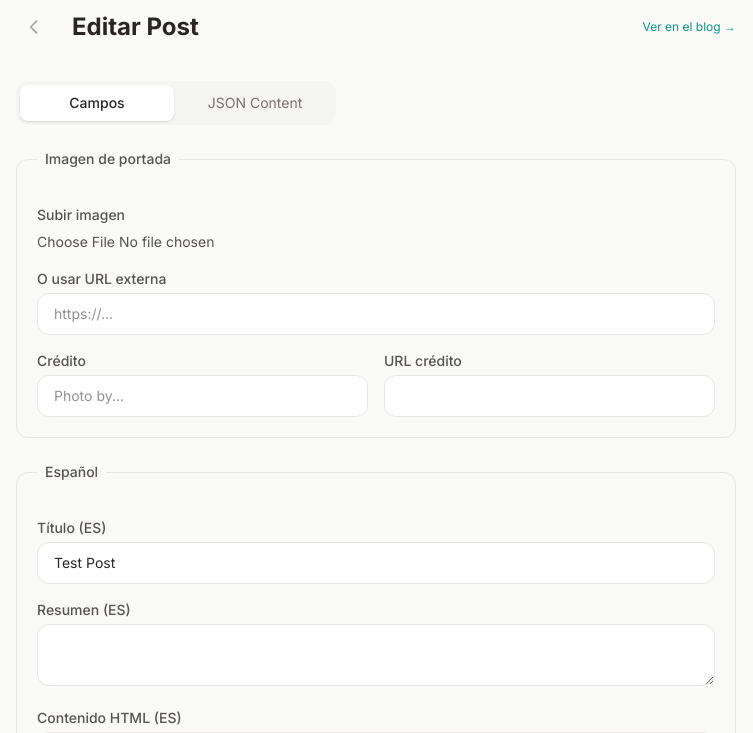
Test: AdminBlogEditPage › switches back to Campos tab from JSON tab
The width and height of the screenshot is (753, 733).
Click the button "JSON Content" at point(255, 103), box [178,85,332,121]
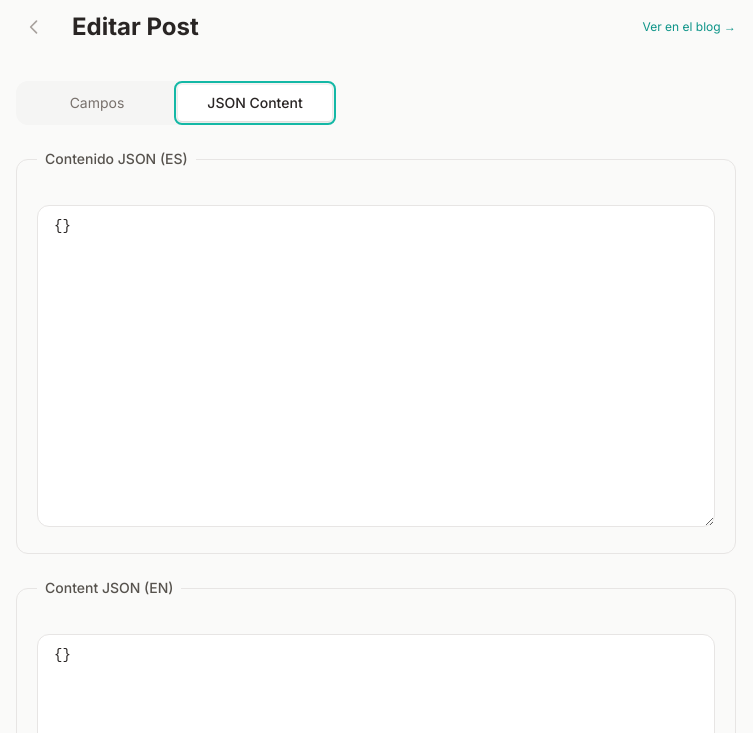
Click the button "Campos" at point(97, 103), box [20,85,174,121]
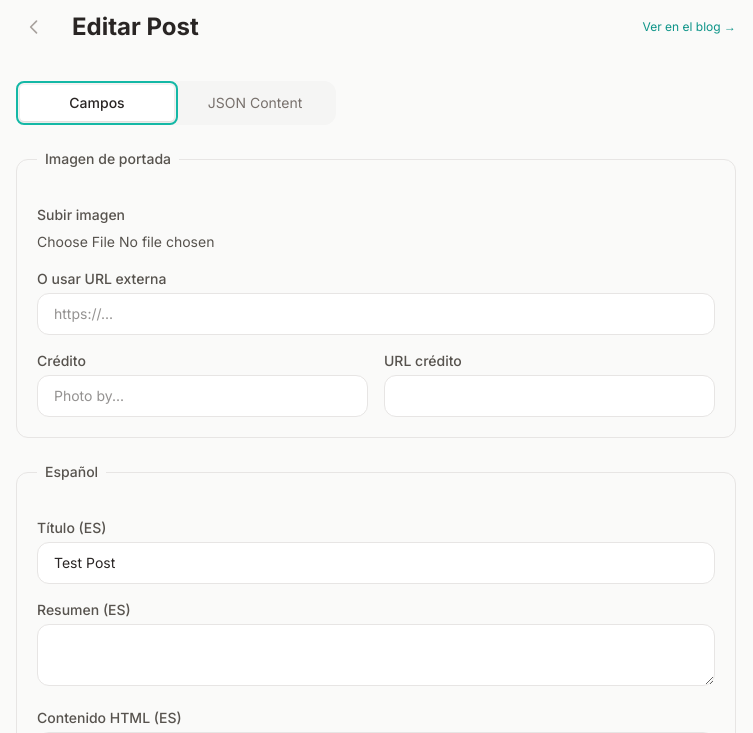
Now the field labelled "Título (ES)" is shown, box [37,542,715,584]
